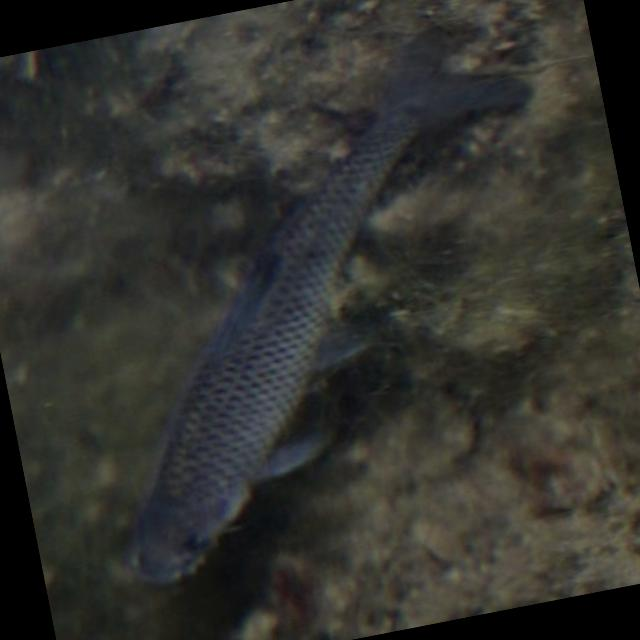Cakil Baligi: (34, 9, 608, 600)
